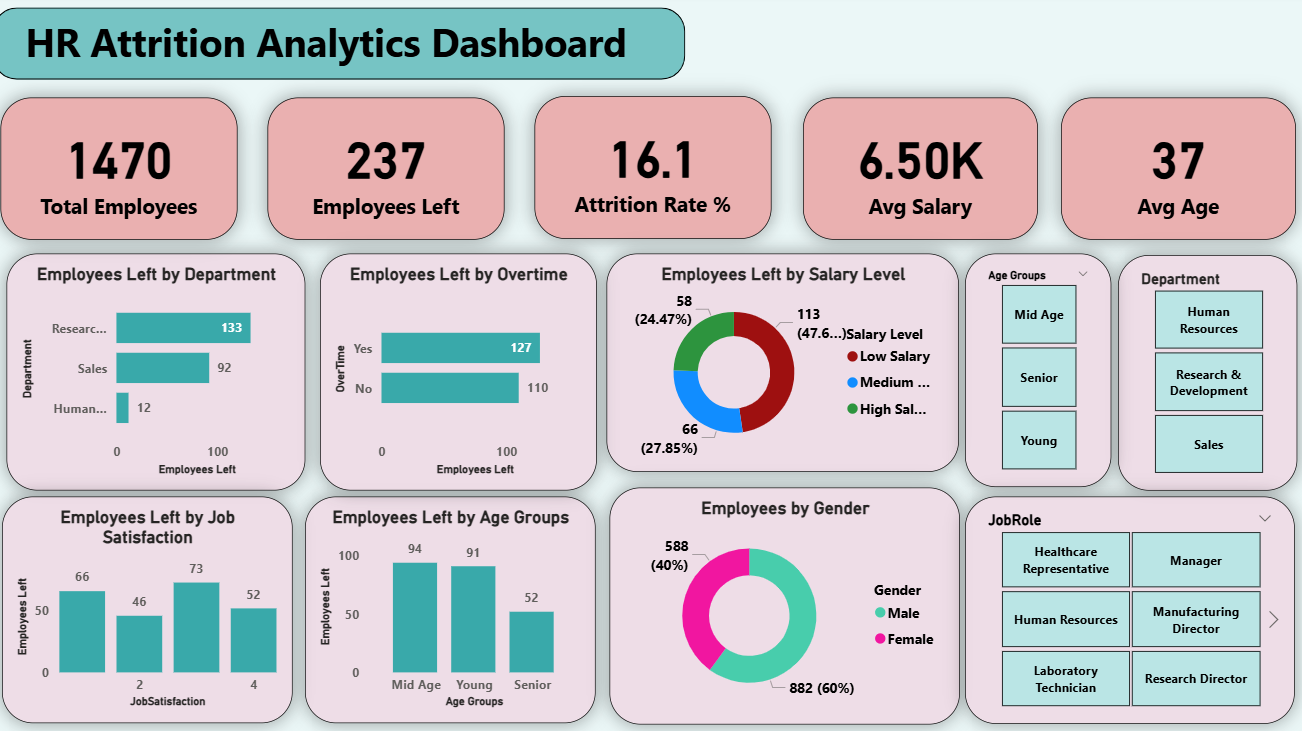

What the dashboard file says about the page in this screenshot:
{"tool":"powerbi","page":{"name":"HR_Analysis_Dashboard","canvas":[1280,720],"ordinal":0},"visuals":[{"type":"card","fields":{"Values":["HR-Employee-Attrition.Employees Left"]},"box":[266,100,230,138],"z":0},{"type":"card","fields":{"Values":["HR-Employee-Attrition.Attrition Rate %"]},"box":[526.1,99.2,230,138.6],"z":1000},{"type":"card","fields":{"Values":["HR-Employee-Attrition.Avg Salary"]},"box":[786,100,228,138],"z":2000},{"type":"barChart","title":"Employees Left by Department","fields":{"Category":["HR-Employee-Attrition.Department"],"Y":["HR-Employee-Attrition.Employees Left"]},"box":[13.3,251.7,290,230],"z":3000},{"type":"clusteredColumnChart","fields":{"Category":["HR-Employee-Attrition.Age Groups"],"Y":["HR-Employee-Attrition.Employees Left"]},"box":[303.3,488.3,281.7,220],"z":4000},{"type":"donutChart","title":"Employees Left by Salary Level","fields":{"Category":["HR-Employee-Attrition.Salary Slab"],"Y":["HR-Employee-Attrition.Employees Left"]},"box":[596,252,342,212],"z":5000},{"type":"clusteredBarChart","title":"Employees Left by Overtime","fields":{"Category":["HR-Employee-Attrition.OverTime"],"Y":["HR-Employee-Attrition.Employees Left"]},"box":[316.7,251.7,268.3,230],"z":6000},{"type":"clusteredColumnChart","title":"Employees Left by Job Satisfaction","fields":{"Category":["HR-Employee-Attrition.JobSatisfaction"],"Y":["HR-Employee-Attrition.Employees Left"]},"box":[8.3,488.3,281.7,220],"z":7000},{"type":"card","fields":{"Values":["HR-Employee-Attrition.Avg Age"]},"box":[1036,100,228,138],"z":8000},{"type":"shape","box":[0,13.3,671.7,70],"z":9000},{"type":"textbox","box":[26.7,16.7,605,66.7],"z":10000},{"type":"donutChart","title":"Employees by Gender","fields":{"Category":["HR-Employee-Attrition.Gender"],"Y":["HR-Employee-Attrition.Total Employees"]},"box":[598.3,478.3,340,230],"z":11000},{"type":"card","fields":{"Values":["HR-Employee-Attrition.Total Employees"]},"box":[8,100,230,138],"z":12000},{"type":"slicer","fields":{"Values":["HR-Employee-Attrition.Department"]},"box":[1091.6,253.2,174.2,228.9],"z":12001},{"type":"slicer","fields":{"Values":["HR-Employee-Attrition.Age Groups"]},"box":[943.8,251.1,141.8,226.8],"z":12002},{"type":"slicer","fields":{"Values":["HR-Employee-Attrition.JobRole"]},"box":[943.8,488.1,320,220.8],"z":12003}]}

Visuals, with their boxes in screenshot pixels (x1, y1, x2, y2), scaled from the page's 1280x720 canvas onto the 1302x731 screenshot:
card - HR-Employee-Attrition.Employees Left: bbox(271, 102, 505, 242)
card - HR-Employee-Attrition.Attrition Rate %: bbox(535, 101, 769, 241)
card - HR-Employee-Attrition.Avg Salary: bbox(800, 102, 1031, 242)
"Employees Left by Department" barChart: bbox(14, 256, 309, 489)
clusteredColumnChart - HR-Employee-Attrition.Age Groups x HR-Employee-Attrition.Employees Left: bbox(309, 496, 595, 719)
"Employees Left by Salary Level" donutChart: bbox(606, 256, 954, 471)
"Employees Left by Overtime" clusteredBarChart: bbox(322, 256, 595, 489)
"Employees Left by Job Satisfaction" clusteredColumnChart: bbox(8, 496, 295, 719)
card - HR-Employee-Attrition.Avg Age: bbox(1054, 102, 1286, 242)
shape: bbox(0, 14, 683, 85)
textbox: bbox(27, 17, 643, 85)
"Employees by Gender" donutChart: bbox(609, 486, 954, 719)
card - HR-Employee-Attrition.Total Employees: bbox(8, 102, 242, 242)
slicer - HR-Employee-Attrition.Department: bbox(1110, 257, 1288, 489)
slicer - HR-Employee-Attrition.Age Groups: bbox(960, 255, 1104, 485)
slicer - HR-Employee-Attrition.JobRole: bbox(960, 496, 1286, 720)
